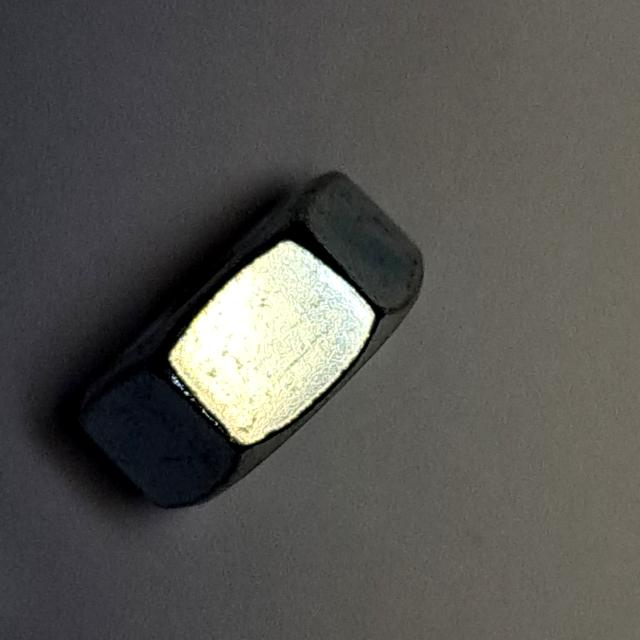Side_Excellent: (47, 160, 448, 526)
